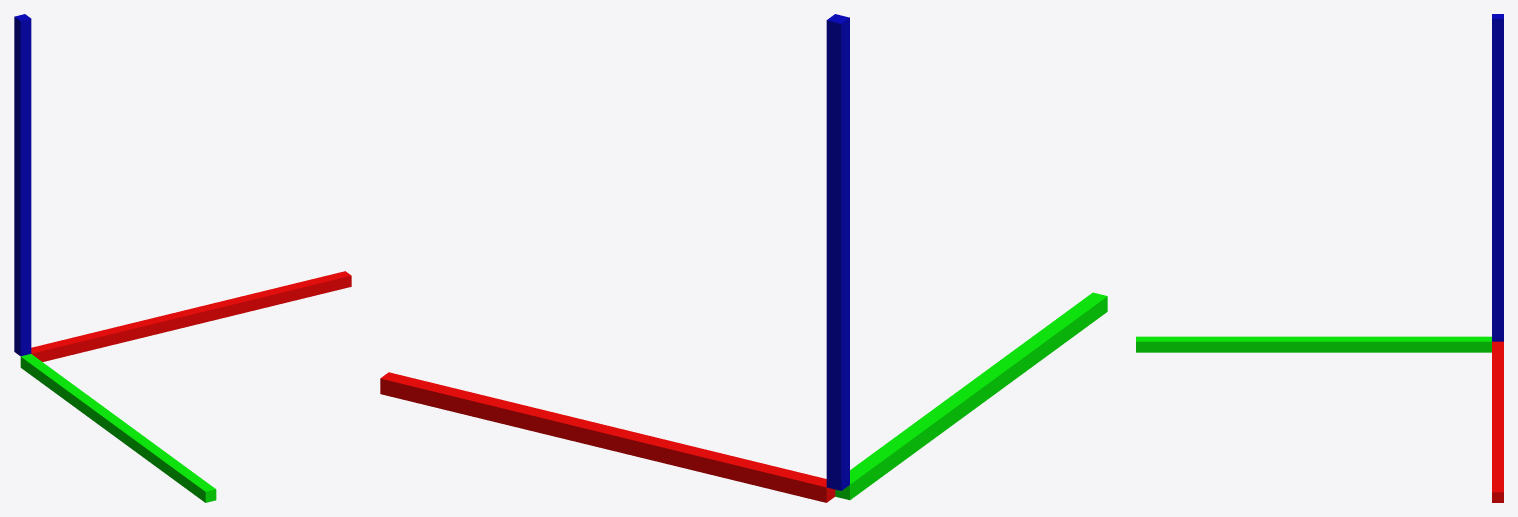
The model's file is xyz.obj.
The picture shows the model from 3 angles, left to right: view 1: azimuth 30°, elevation 25°; view 2: azimuth 150°, elevation 25°; view 3: azimuth 270°, elevation 25°; orthographic projection. The views are drawn at different scales.
Visible parts, largest first — view 1: Cube.001, Cube.002, Cube; view 2: Cube.001, Cube.002, Cube; view 3: Cube, Cube.001, Cube.002.
Boxes of the visible parts, bbox=[...] form: Cube.001: bbox=[14, 14, 31, 356]; Cube.002: bbox=[31, 271, 351, 361]; Cube: bbox=[20, 354, 216, 502]; Cube.001: bbox=[826, 14, 849, 490]; Cube.002: bbox=[380, 372, 835, 502]; Cube: bbox=[835, 292, 1107, 500]; Cube: bbox=[1136, 336, 1491, 352]; Cube.001: bbox=[1492, 14, 1503, 341]; Cube.002: bbox=[1492, 341, 1503, 502].
Size of the model in its own units: 6.2 by 6.2 by 6.2.
